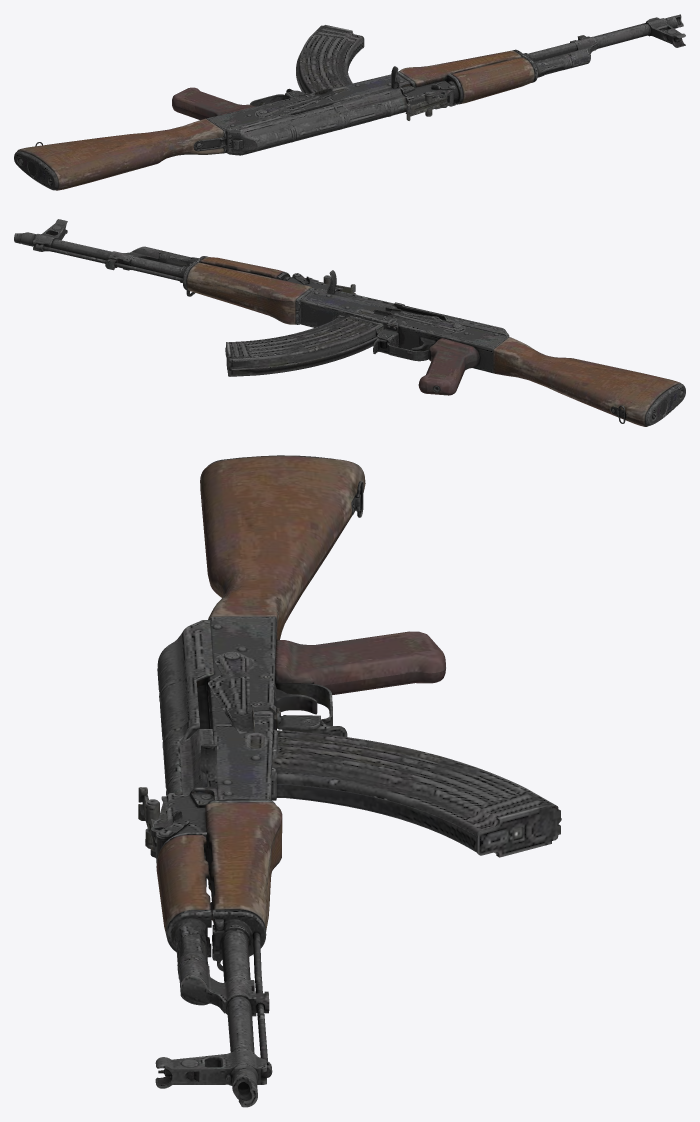
3 renders of one model, top to bottom at view 1: azimuth 30°, elevation 25°; view 2: azimuth 150°, elevation 25°; view 3: azimuth 270°, elevation 25°, orthographic. The views are drawn at different scales.
Parts seen in each view (by area): view 1: w_ak47; view 2: w_ak47; view 3: w_ak47.
Part boxes in pixels (x1=…): w_ak47: x1=14, y1=14, x2=685, y2=190; w_ak47: x1=14, y1=219, x2=685, y2=426; w_ak47: x1=138, y1=455, x2=561, y2=1107.
Size of the model in its own units: 1.35 by 0.1012 by 0.386.
Materials: 1 (1 with a texture image).
